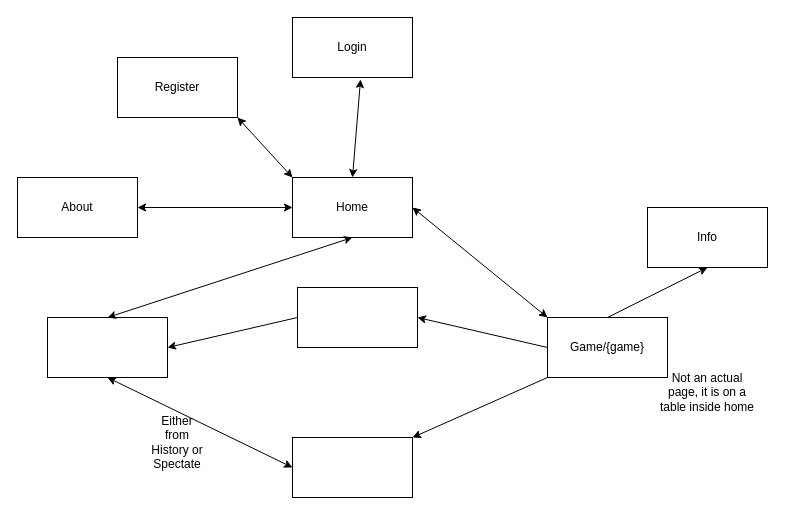
The diagram is 785 pixels wide and 515 high, and some of its shapes have lost their labels. The centre of each missing label's shape, as x and y in pixels:
Leaderboard: point 357,317
Match: point 352,467
User: point 107,347
